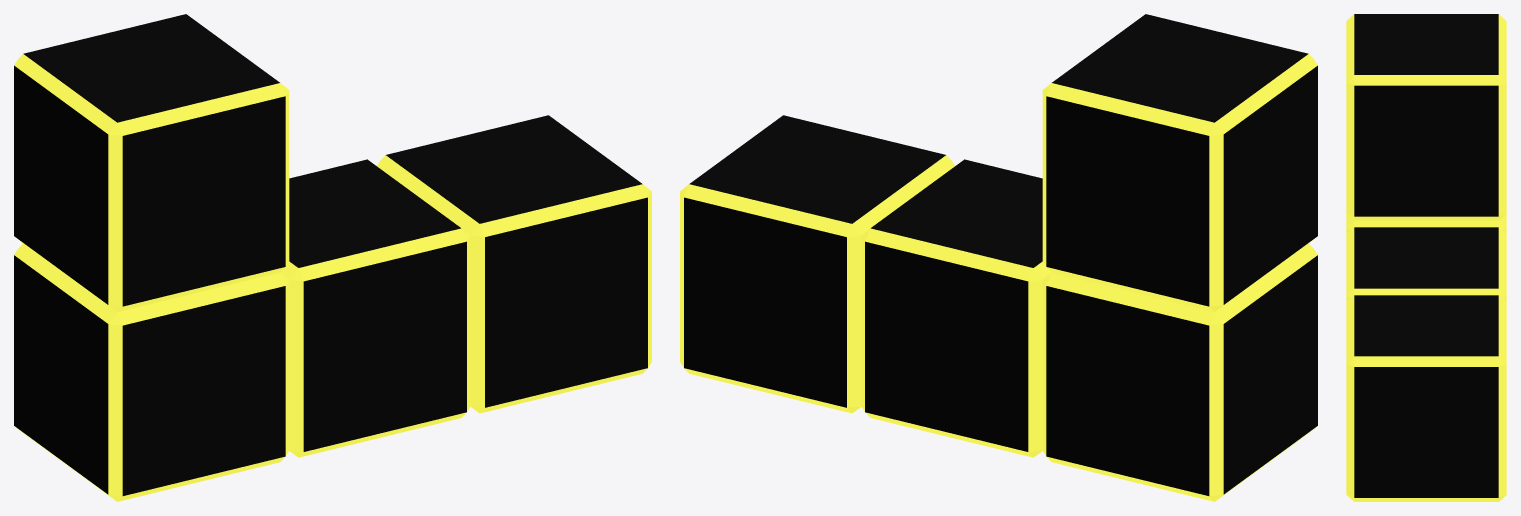
The model's file is bricks-1.glb.
3 renders of one model, left to right at view 1: azimuth 30°, elevation 25°; view 2: azimuth 150°, elevation 25°; view 3: azimuth 270°, elevation 25°, orthographic. The views are drawn at different scales.
Parts seen in each view (by area): view 1: bricks-1; view 2: bricks-1; view 3: bricks-1.
Boxes of the visible parts, bbox=[...] form: bricks-1: bbox=[14, 14, 651, 501]; bricks-1: bbox=[680, 14, 1317, 501]; bricks-1: bbox=[1346, 14, 1506, 501].
Size of what is drawn, in the model's own units: 6 by 4 by 2.
